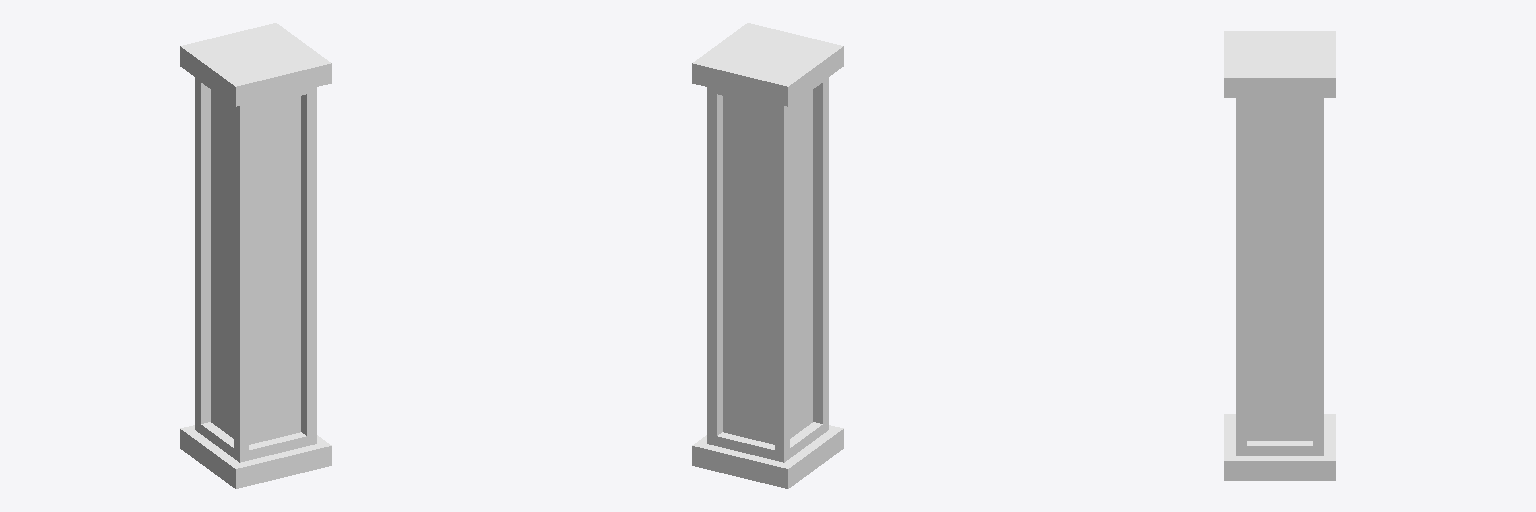
The model's file is pillar_10_40_10.obj.
3 views of the same model, side by side, from view 1: azimuth 30°, elevation 25°; view 2: azimuth 150°, elevation 25°; view 3: azimuth 270°, elevation 25° (orthographic).
Visible parts, largest first — view 1: object 1; view 2: object 1; view 3: object 1.
Part boxes in pixels (x1,y1,x2,y2): object 1: (180, 23, 331, 488); object 1: (692, 23, 843, 488); object 1: (1224, 31, 1335, 480).
Bounding box in the file's own units: 1 × 4 × 1.